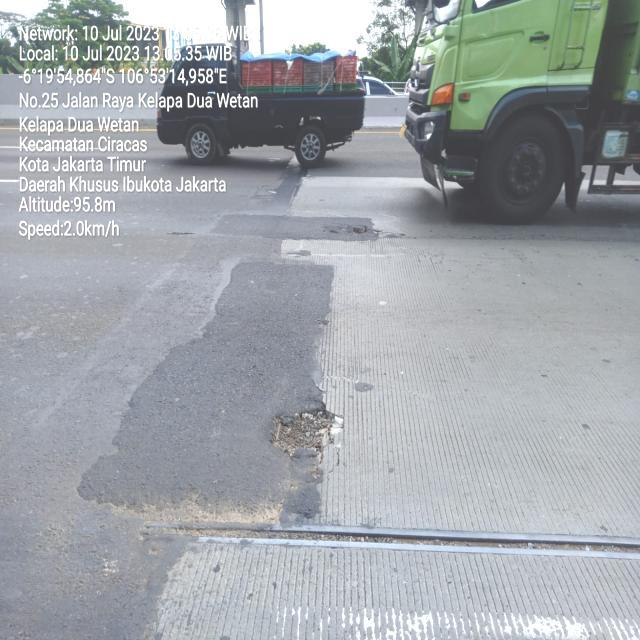Buraco: (266, 404, 348, 466), (336, 223, 374, 238)
